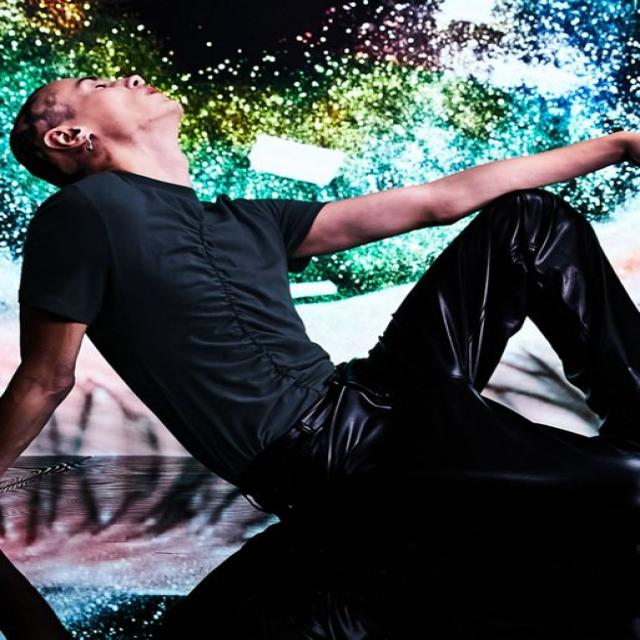tshirt: (15, 167, 341, 489)
